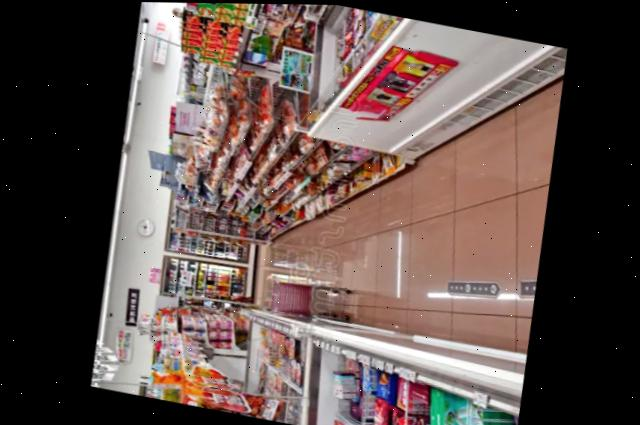background: (73, 1, 580, 425)
